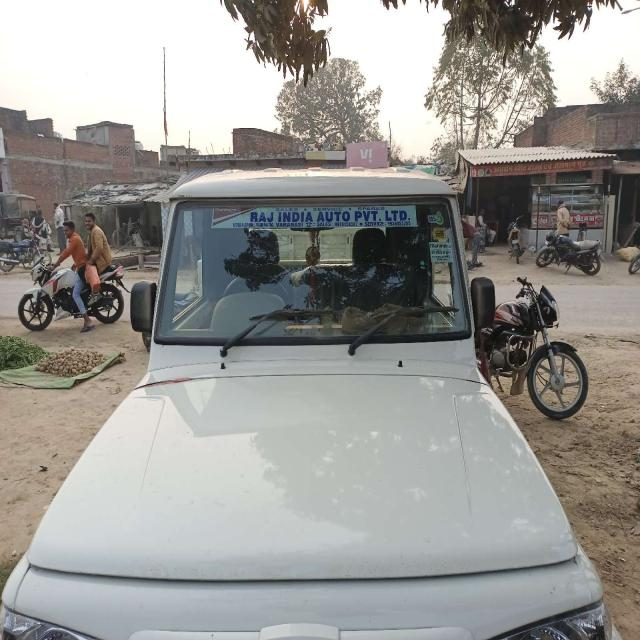light_vehicle: (74, 174, 604, 639)
